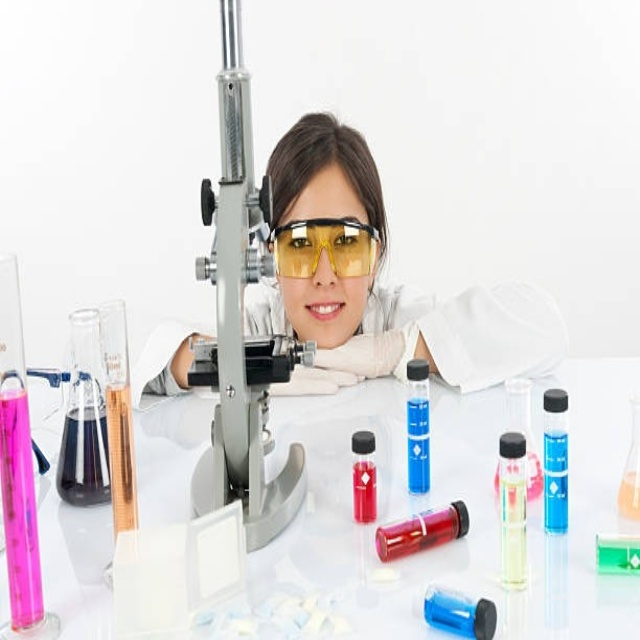Gafas: (270, 219, 380, 279)
Guantes: (306, 321, 414, 384)
Sin_mascara: (297, 285, 352, 331)
